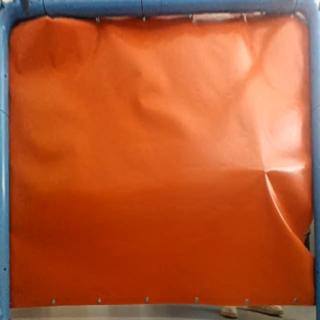Hit-hRxx: (254, 163, 274, 177)
